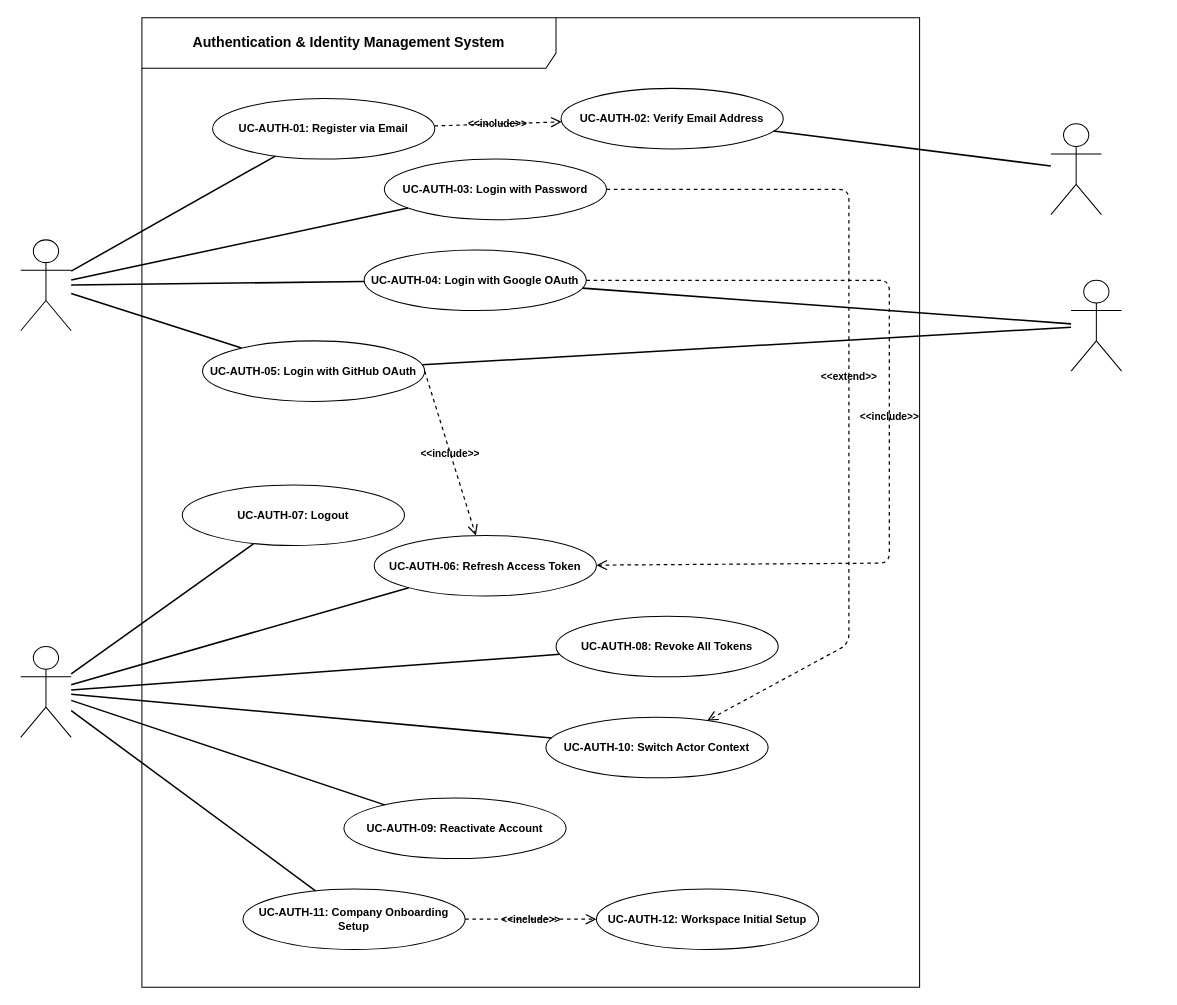
This 1177x1005 diagram has some shape labels left out. Here are the shapes that lost their labels. From the top down, the box of each, then its label:
(1050, 123, 1101, 215): Email Service
(20, 239, 71, 331): Guest
(1070, 279, 1122, 371): Google/GitHub OAuth
(20, 645, 71, 737): candidate
